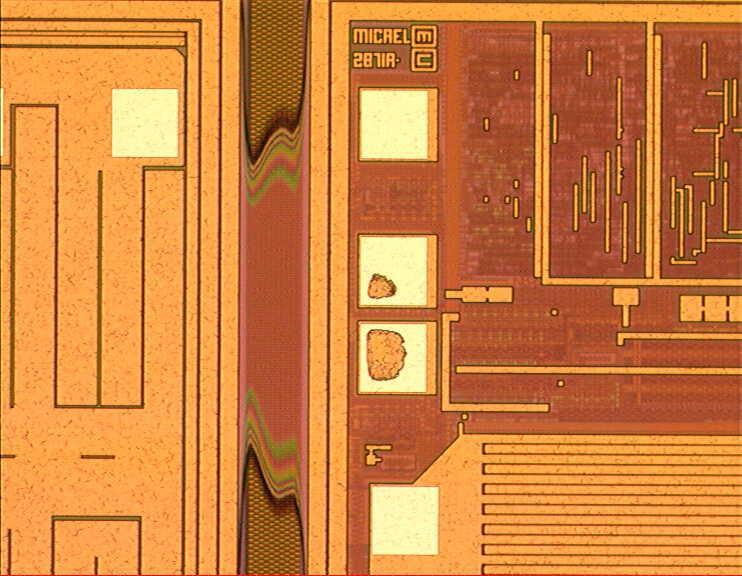BLOCK ETCH: (239, 1, 408, 576)
